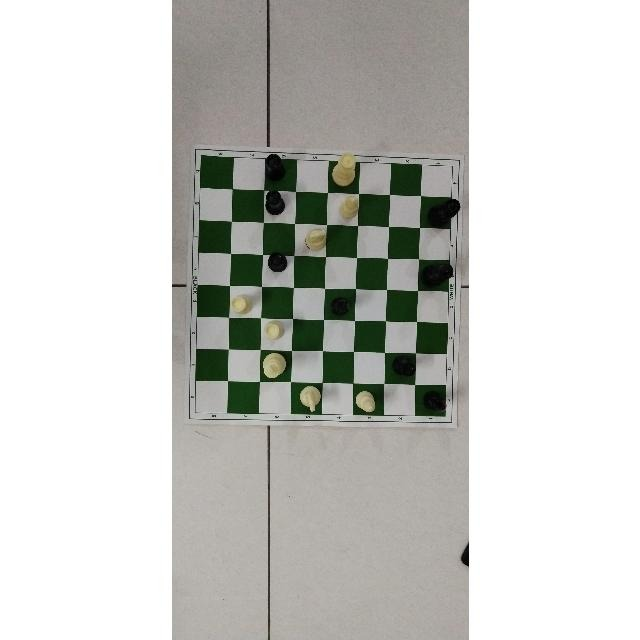black-bishop: (422, 392, 447, 414), (330, 295, 348, 314)
black-king: (419, 262, 452, 288)
black-queen: (426, 198, 459, 226)
black-rook: (265, 153, 287, 183), (263, 190, 285, 216), (266, 250, 288, 273), (391, 355, 414, 377)
white-bishop: (338, 194, 358, 219), (353, 392, 375, 412)
white-king: (262, 352, 286, 379)
white-knight: (297, 387, 321, 411), (304, 228, 327, 250)
white-queen: (330, 153, 355, 189)
white-rook: (229, 293, 253, 314), (263, 320, 283, 340)
